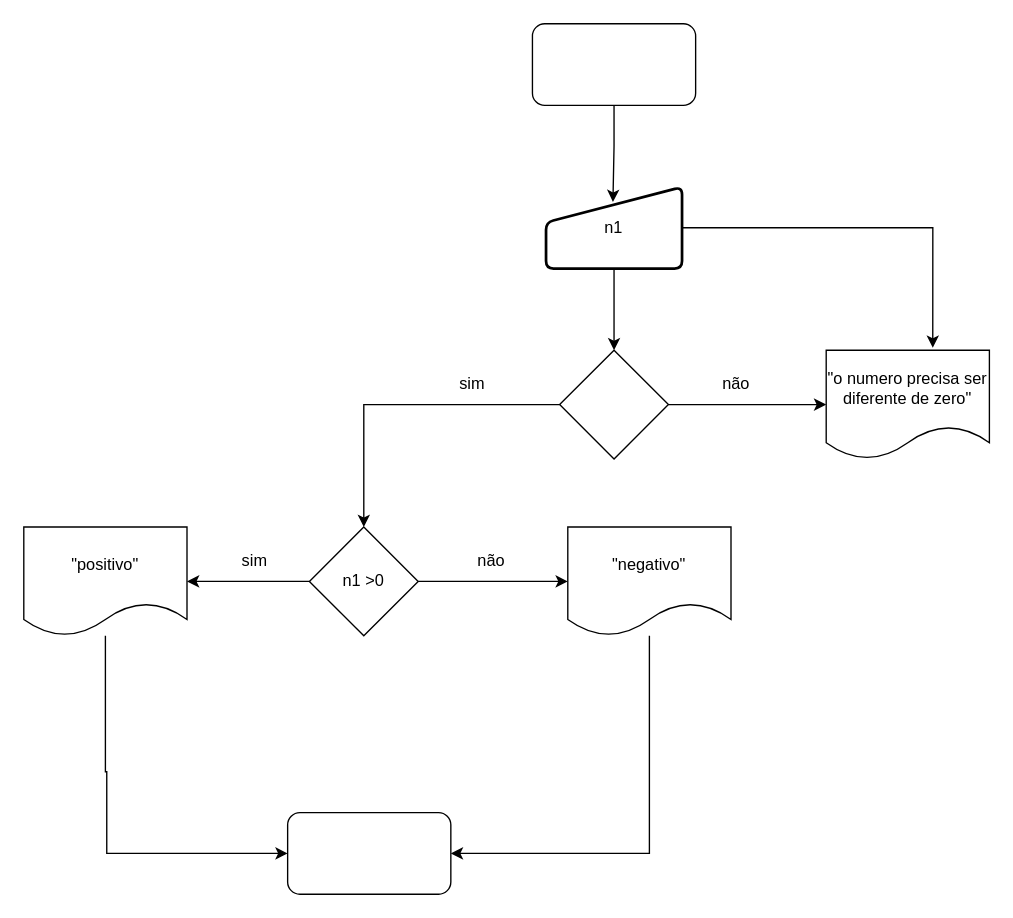
Image size: 1013x918. Some labels were removed from this diagram. The centre of each missing label's shape, as x and y in pixels:
fim: the point at 368,852
inicio: the point at 613,63
n1 !=0: the point at 613,404
